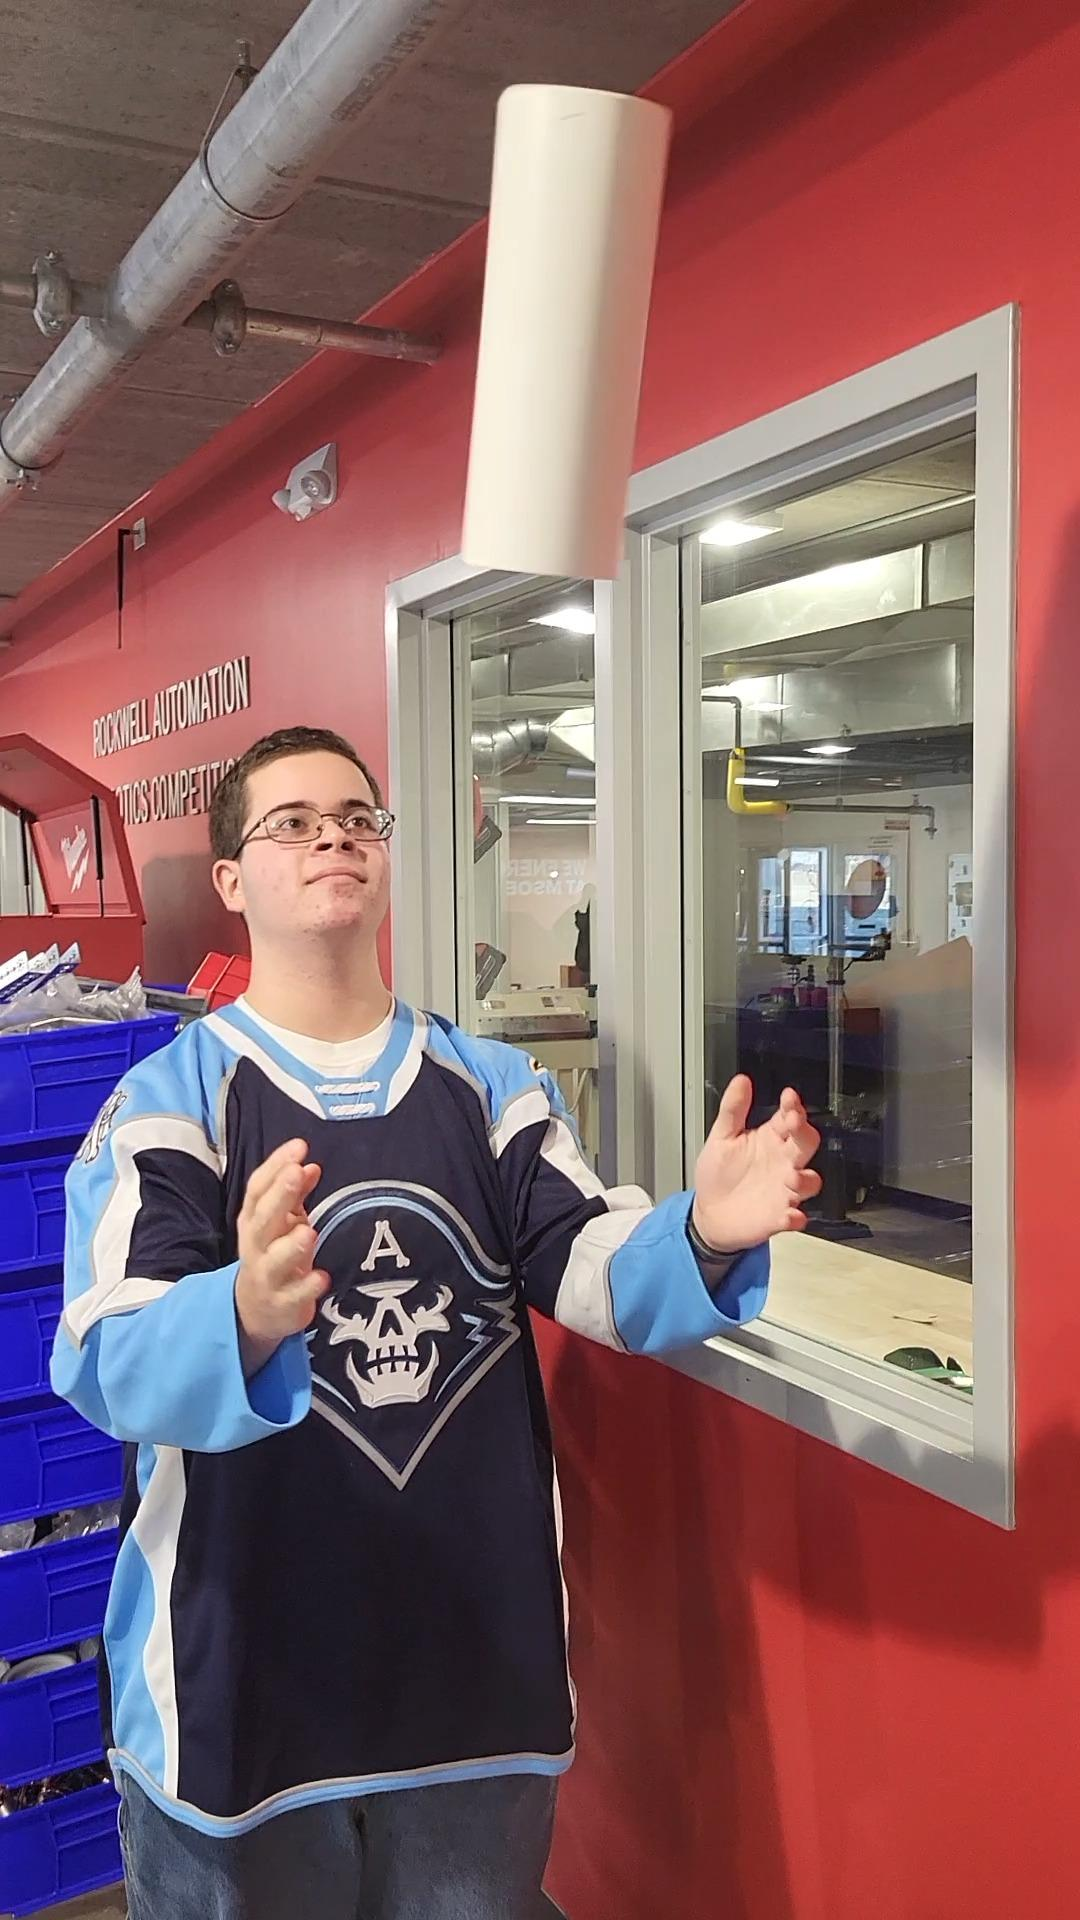coral: (450, 61, 683, 587)
